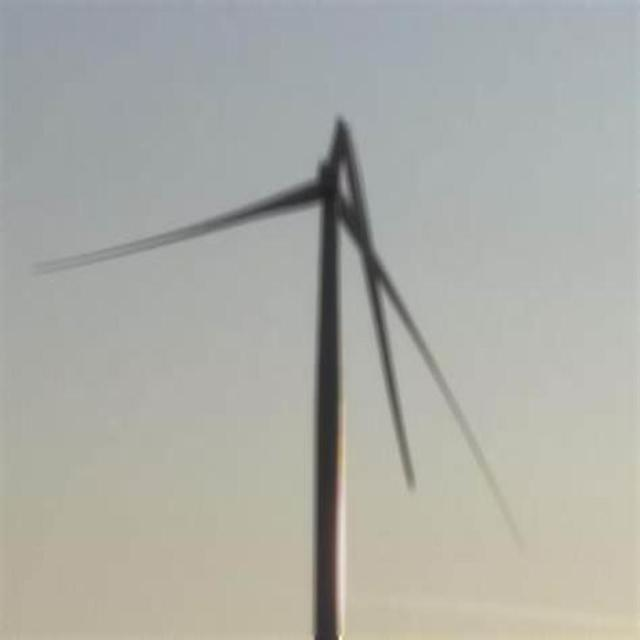crack: (329, 106, 419, 476)
